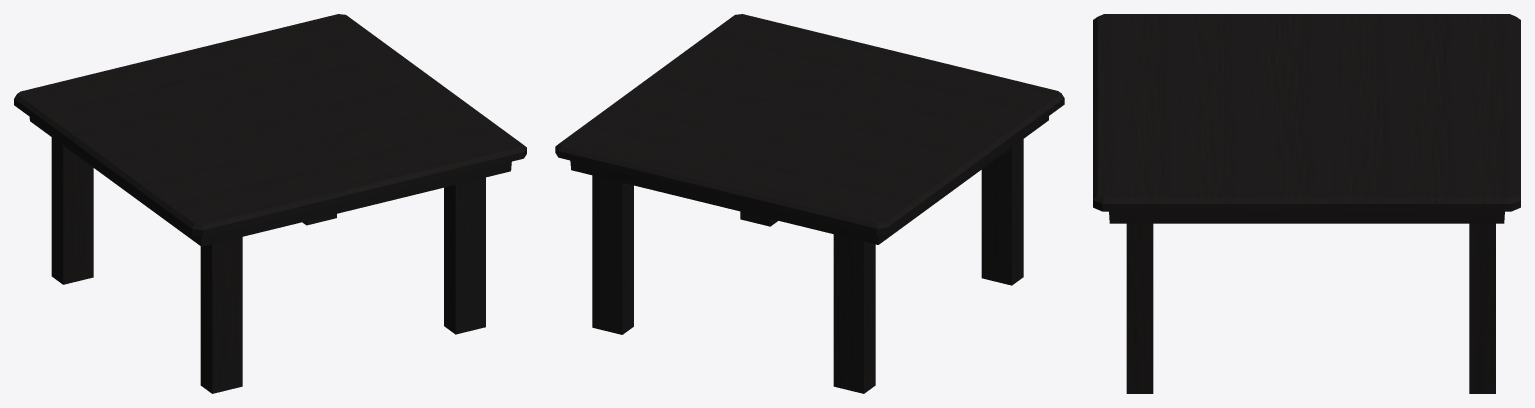
Rendered from Square Table_A.FBX.
3 renders of one model, left to right at view 1: azimuth 30°, elevation 25°; view 2: azimuth 150°, elevation 25°; view 3: azimuth 270°, elevation 25°, orthographic. The views are drawn at different scales.
Parts seen in each view (by area): view 1: Square Table; view 2: Square Table; view 3: Square Table.
Part boxes in pixels (left/top/right/bottom): Square Table: left=14, top=14, right=526, bottom=393; Square Table: left=555, top=14, right=1064, bottom=393; Square Table: left=1093, top=14, right=1520, bottom=393.
Bounding box in the file's own units: 264 × 138 × 254.
